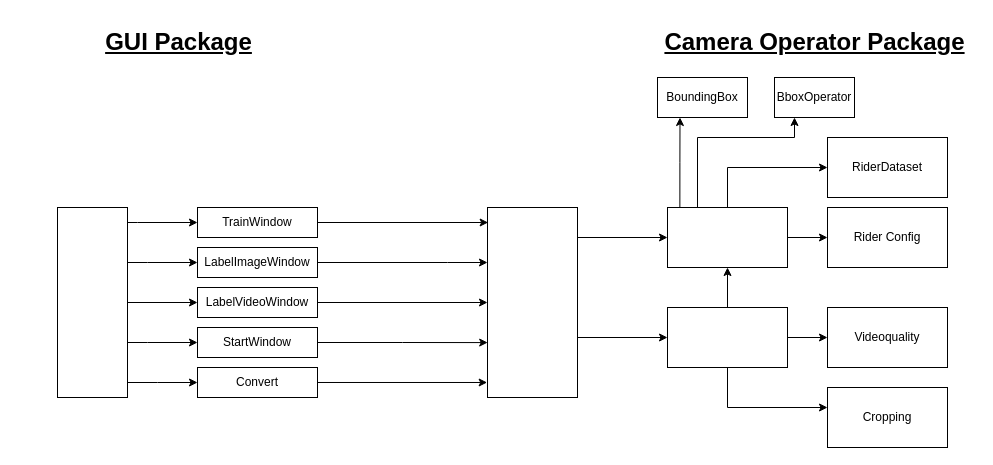
Some shapes in this 993 by 465 pixel diagram are drawn without their labels. The centre of each missing label's shape, as x and y in pixels:
Main Window: [92,302]
Operator: [532,302]
Riderdetector: [727,237]
VideoProcessing: [727,337]
